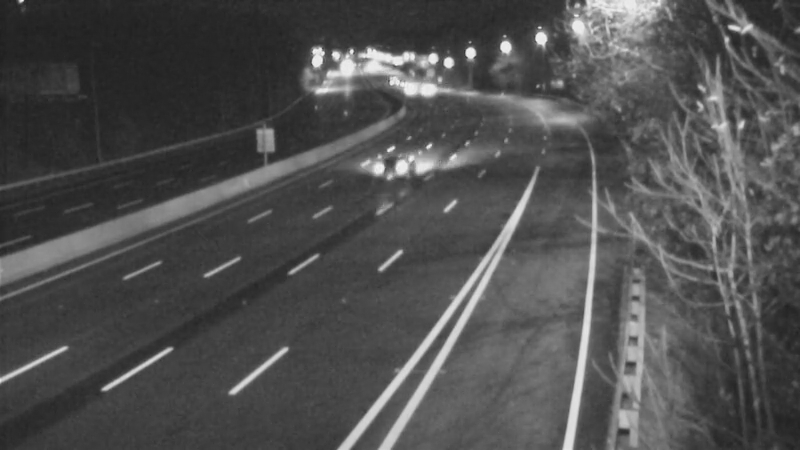vehicle: (358, 128, 438, 208), (366, 57, 416, 107), (381, 68, 431, 118), (406, 64, 456, 114)
